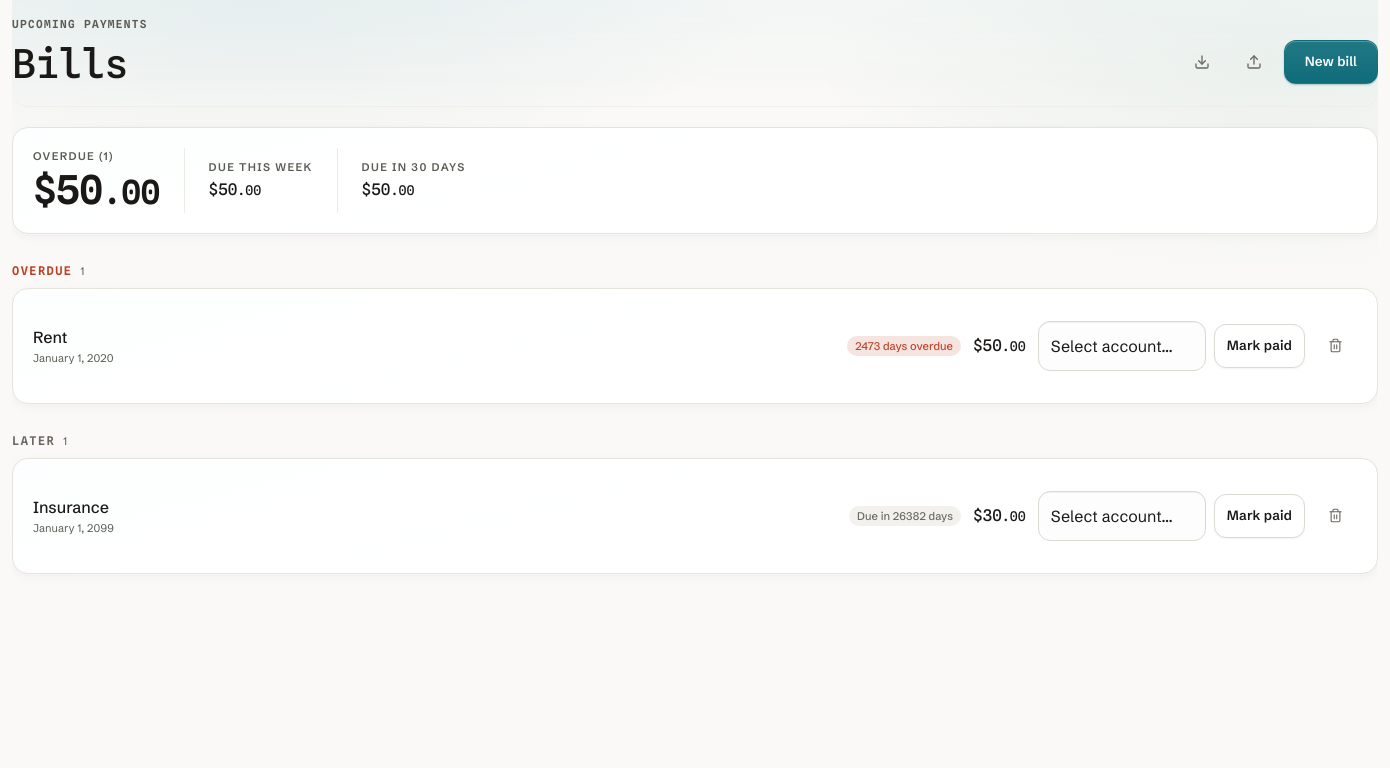
Test: BillsPage › cancels a bill only after a confirm step, then toasts
Click the button named "cancel rent".
click(1335, 346)  # box top-left (1313, 324), bottom-right (1357, 368)
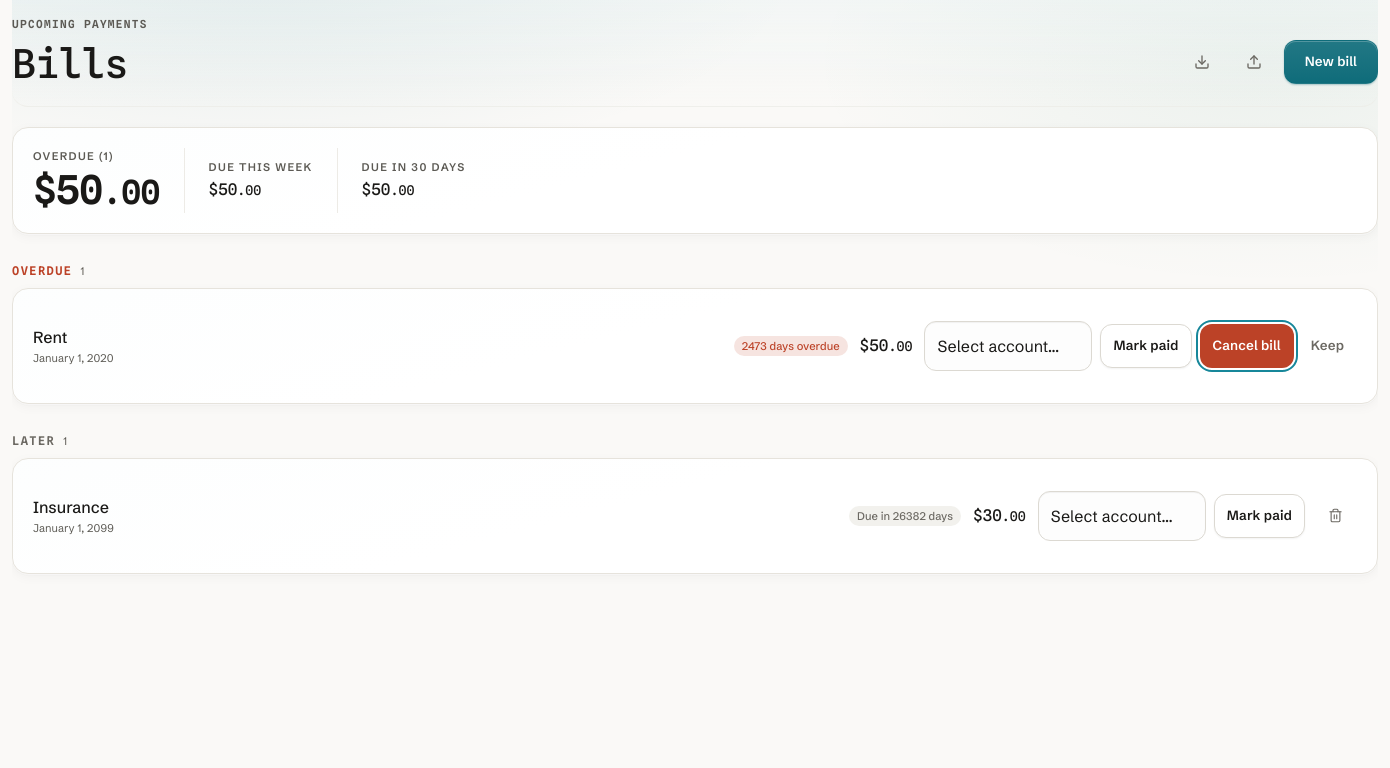
Click the button "Cancel bill".
click(1247, 346)  # box top-left (1200, 324), bottom-right (1294, 368)
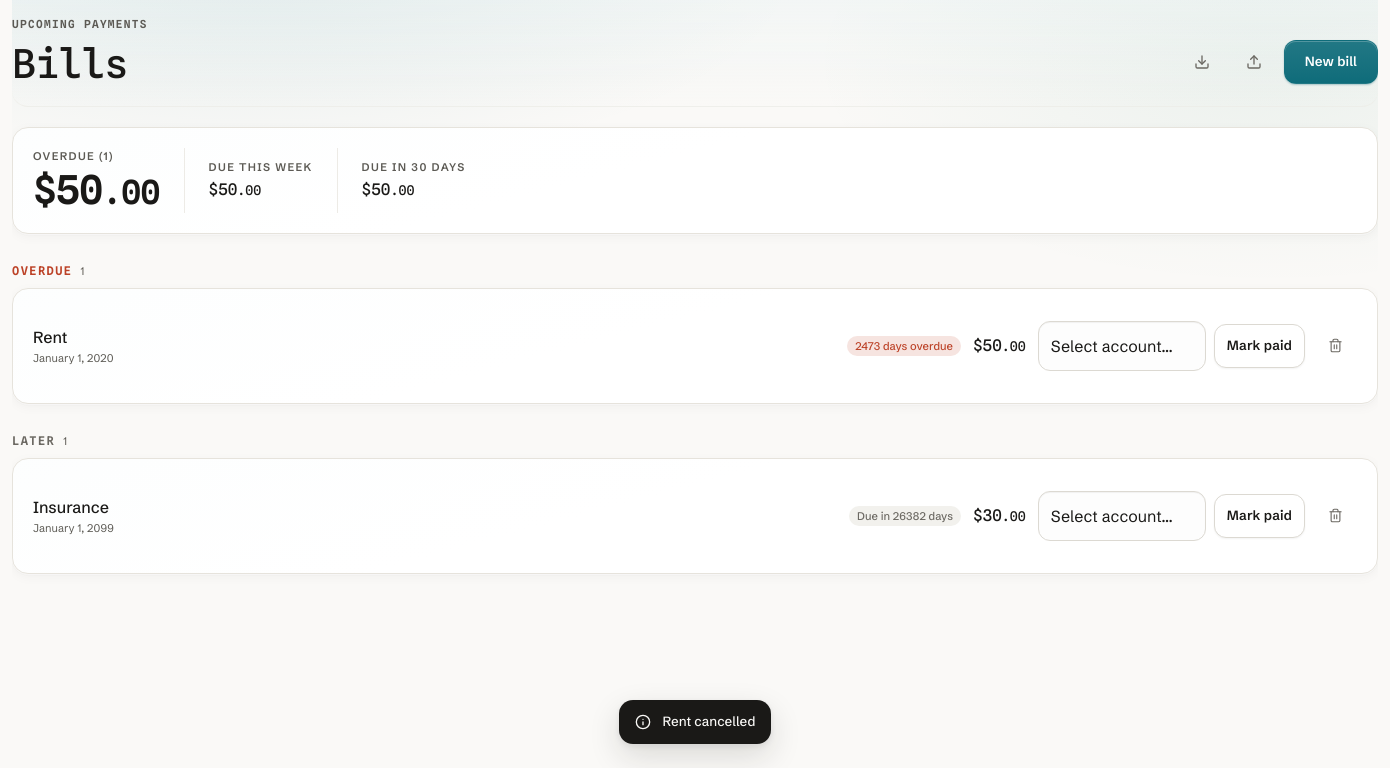
expect the text "Rent cancelled" is shown: met, box top-left (662, 712), bottom-right (756, 732)
